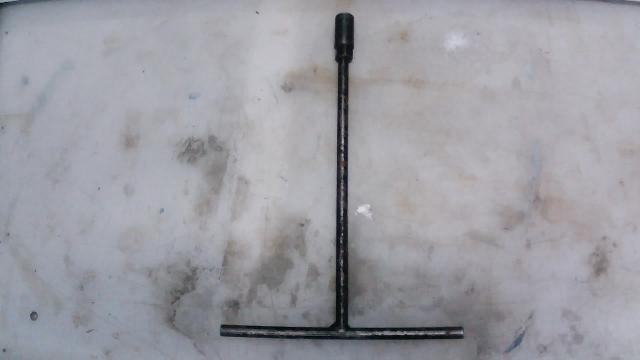kunci_t: (203, 7, 501, 345)
